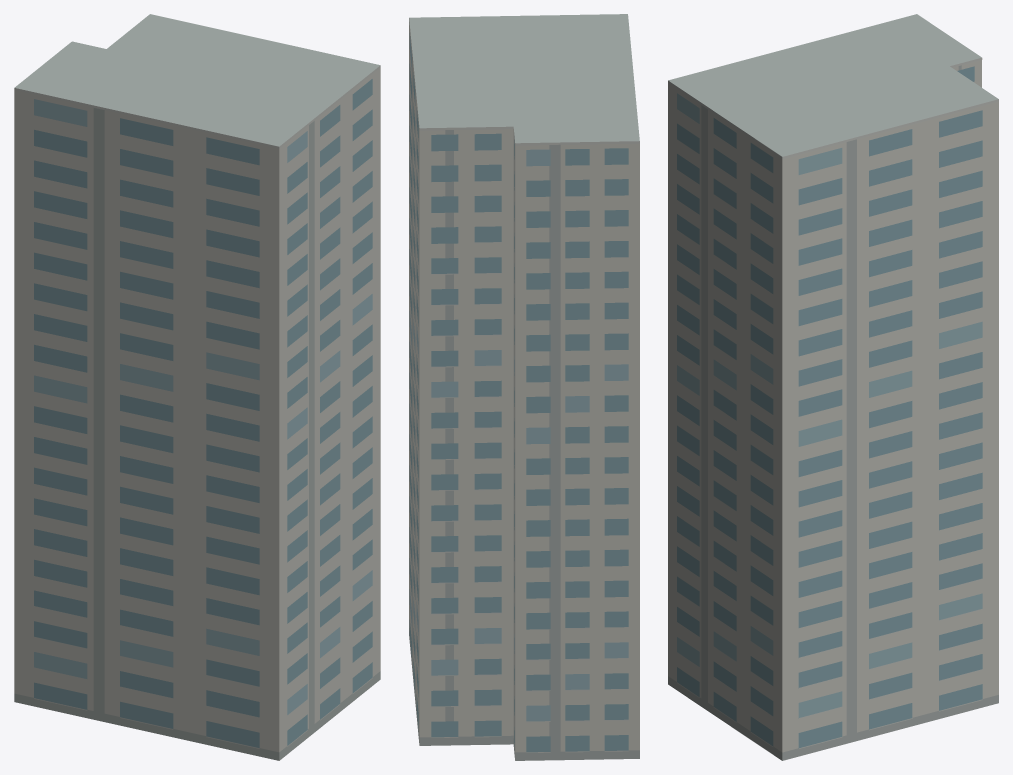
File: residential-7acffb7c-0cbd-4ba7-bbe6-0e94509a7f2c.glb
3 views of the same model, side by side, from view 1: azimuth 30°, elevation 25°; view 2: azimuth 150°, elevation 25°; view 3: azimuth 270°, elevation 25° (orthographic). The views are drawn at different scales.
Parts seen in each view (by area): view 1: residential-7acffb7c-0cbd-4ba7-bbe6-0e94509a7f2c.tmp; view 2: residential-7acffb7c-0cbd-4ba7-bbe6-0e94509a7f2c.tmp; view 3: residential-7acffb7c-0cbd-4ba7-bbe6-0e94509a7f2c.tmp.
Part boxes in pixels (box(x1,y1,x2,y2)): residential-7acffb7c-0cbd-4ba7-bbe6-0e94509a7f2c.tmp: box(14, 14, 380, 760); residential-7acffb7c-0cbd-4ba7-bbe6-0e94509a7f2c.tmp: box(409, 14, 639, 760); residential-7acffb7c-0cbd-4ba7-bbe6-0e94509a7f2c.tmp: box(668, 14, 998, 760).
Size of the model in its own units: 33 by 65 by 32.28.
